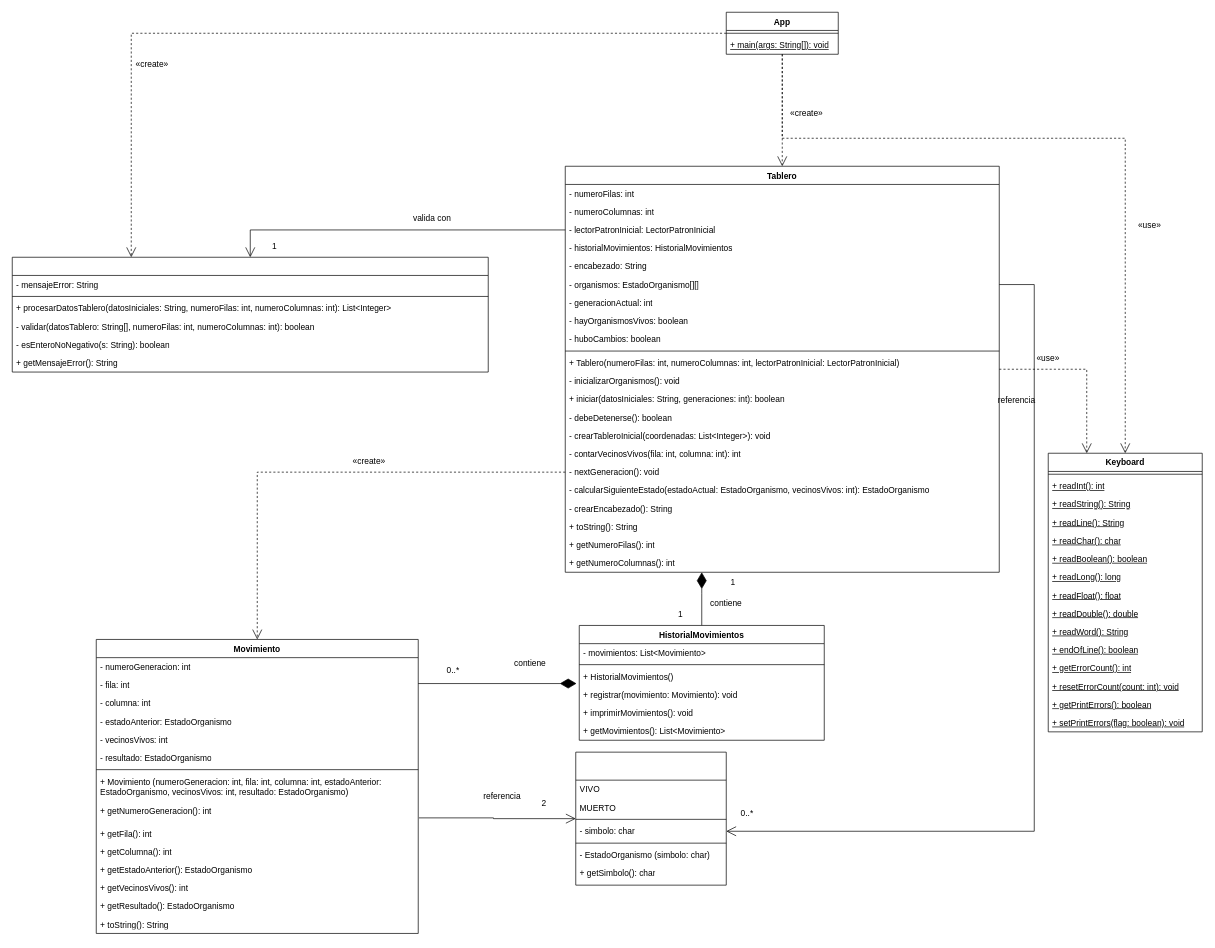
This 1215x948 diagram has some shape labels left out. The box of each missing label's shape, as (x1, y1, x2, y2) in pixels:
LectorPatronInicial: (12, 257, 488, 372)
«enumeration» EstadoOrganismo: (575, 751, 726, 885)
